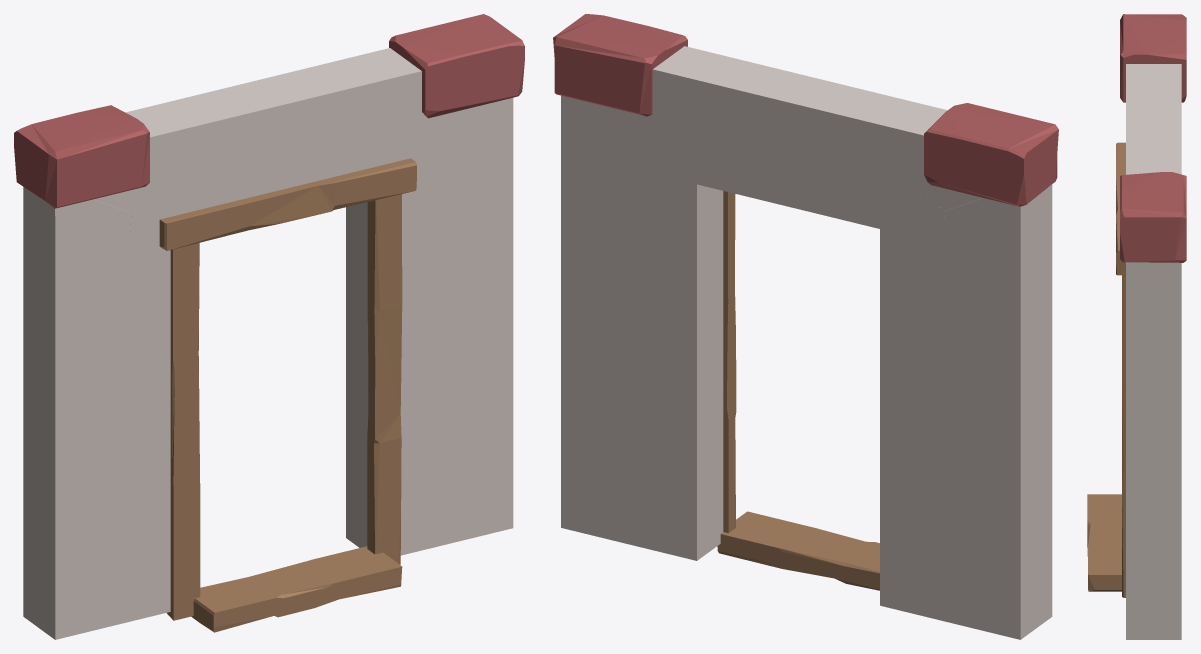
The model's file is PKF_PK_Wall_Door_v2.fbx.
3 renders of one model, left to right at view 1: azimuth 30°, elevation 25°; view 2: azimuth 150°, elevation 25°; view 3: azimuth 270°, elevation 25°, orthographic. The views are drawn at different scales.
Parts seen in each view (by area): view 1: PK_Wall_Door_Chunk_14, PK_Wall_Door_Chunk_03, PK_Wall_Door_Chunk_09, PK_Wall_Door_Chunk_08, PK_Wall_Door_Chunk_21, PK_Wall_Door_Chunk_15, PK_Wall_Door_Chunk_06, PK_Wall_Door_Chunk_11, PK_Wall_Door_Chunk_20, PK_Wall_Door_Chunk_18, PK_Wall_Door_Chunk_19, PK_Wall_Door_Chunk_02 (+11 smaller); view 2: PK_Wall_Door_Chunk_09, PK_Wall_Door_Chunk_14, PK_Wall_Door_Chunk_03, PK_Wall_Door_Chunk_08, PK_Wall_Door_Chunk_15, PK_Wall_Door_Chunk_06, PK_Wall_Door_Chunk_11, PK_Wall_Door_Chunk_05, PK_Wall_Door_Chunk_18, PK_Wall_Door_Chunk_04, PK_Wall_Door_Chunk_01, PK_Wall_Door_Chunk_02 (+9 smaller); view 3: PK_Wall_Door_Chunk_14, PK_Wall_Door_Chunk_02, PK_Wall_Door_Chunk_06, PK_Wall_Door_Chunk_18, PK_Wall_Door_Chunk_19, PK_Wall_Door_Chunk_09, PK_Wall_Door_Chunk_15, PK_Wall_Door_Chunk_17, PK_Wall_Door_Chunk_21, PK_Wall_Door_Chunk_22, PK_Wall_Door_Chunk_16, PK_Wall_Door_Chunk_13.
Part boxes in pixels (x1,y1,x2,y2): PK_Wall_Door_Chunk_14: [355, 14, 524, 173]; PK_Wall_Door_Chunk_03: [23, 438, 144, 639]; PK_Wall_Door_Chunk_09: [346, 166, 513, 330]; PK_Wall_Door_Chunk_08: [23, 291, 129, 460]; PK_Wall_Door_Chunk_21: [367, 194, 402, 564]; PK_Wall_Door_Chunk_15: [205, 63, 358, 196]; PK_Wall_Door_Chunk_06: [401, 230, 513, 399]; PK_Wall_Door_Chunk_11: [15, 160, 131, 314]; PK_Wall_Door_Chunk_20: [167, 243, 200, 620]; PK_Wall_Door_Chunk_18: [14, 105, 162, 212]; PK_Wall_Door_Chunk_19: [191, 546, 402, 632]; PK_Wall_Door_Chunk_02: [438, 378, 513, 538]; PK_Wall_Door_Chunk_09: [561, 165, 723, 337]; PK_Wall_Door_Chunk_14: [553, 14, 719, 171]; PK_Wall_Door_Chunk_03: [931, 437, 1052, 639]; PK_Wall_Door_Chunk_08: [945, 290, 1052, 460]; PK_Wall_Door_Chunk_15: [716, 61, 869, 211]; PK_Wall_Door_Chunk_06: [561, 229, 684, 398]; PK_Wall_Door_Chunk_11: [944, 159, 1057, 313]; PK_Wall_Door_Chunk_05: [613, 318, 723, 478]; PK_Wall_Door_Chunk_18: [912, 103, 1058, 211]; PK_Wall_Door_Chunk_04: [880, 403, 1007, 527]; PK_Wall_Door_Chunk_01: [605, 448, 723, 560]; PK_Wall_Door_Chunk_02: [561, 377, 636, 538]; PK_Wall_Door_Chunk_14: [1120, 165, 1186, 322]; PK_Wall_Door_Chunk_02: [1126, 508, 1181, 639]; PK_Wall_Door_Chunk_06: [1126, 378, 1181, 507]; PK_Wall_Door_Chunk_18: [1120, 14, 1186, 102]; PK_Wall_Door_Chunk_19: [1087, 494, 1121, 591]; PK_Wall_Door_Chunk_09: [1126, 323, 1181, 378]; PK_Wall_Door_Chunk_15: [1126, 101, 1181, 153]; PK_Wall_Door_Chunk_17: [1126, 70, 1181, 101]; PK_Wall_Door_Chunk_21: [1122, 275, 1125, 597]; PK_Wall_Door_Chunk_22: [1116, 142, 1125, 275]; PK_Wall_Door_Chunk_16: [1126, 153, 1181, 161]; PK_Wall_Door_Chunk_13: [1126, 162, 1181, 165].
Size of the model in its own units: 206 by 209 by 43.
